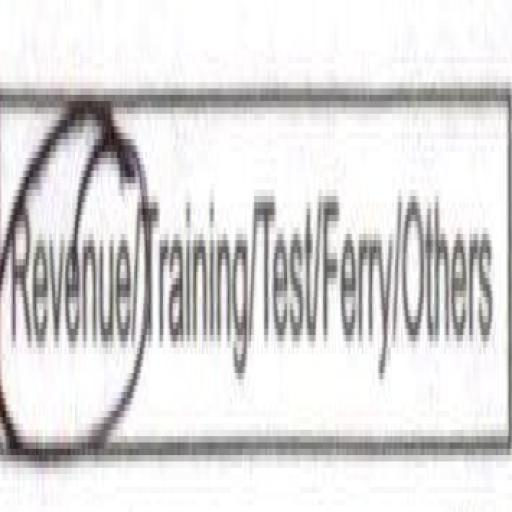check: (0, 40, 142, 512)
